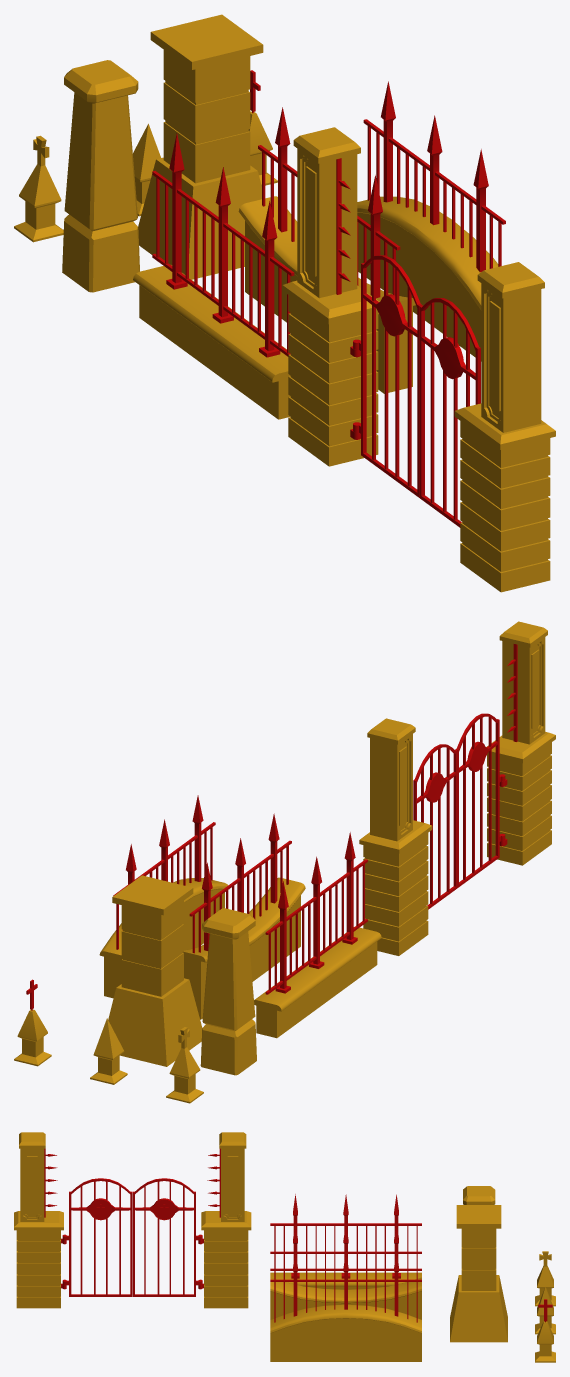
3 renders of one model, top to bottom at view 1: azimuth 30°, elevation 25°; view 2: azimuth 150°, elevation 25°; view 3: azimuth 270°, elevation 25°, orthographic. The views are drawn at different scales.
Parts seen in each view (by area): view 1: Main_Gates2 (×2), Fence_Column2.002, Fence1.002 (×2), Fence3.002 (×2), Fence_Column1.002, Fence2.002 (×2), Peak1.002, Peak2.002, Peak3.002; view 2: Main_Gates2 (×2), Fence_Column2.002, Fence1.002 (×2), Fence_Column1.002, Fence2.002 (×2), Fence3.002 (×2), Peak1.002, Peak2.002, Peak3.002; view 3: Main_Gates2 (×2), Fence3.002 (×2), Fence_Column2.002, Fence2.002 (×2), Fence1.002 (×2), Peak3.002, Peak1.002, Fence_Column1.002, Peak2.002.
Part boxes in pixels (x1,y1,x2,y2): Main_Gates2 (×2): (282,127,555,592); Fence_Column2.002: (138,14,263,279); Fence1.002 (×2): (133,133,294,419); Fence3.002 (×2): (357,81,505,361); Fence_Column1.002: (62,60,139,292); Fence2.002 (×2): (238,107,415,393); Peak1.002: (14,135,63,242); Peak2.002: (133,123,160,216); Peak3.002: (248,111,277,186); Main_Gates2 (×2): (359,621,555,955); Fence_Column2.002: (108,875,202,1066); Fence1.002 (×2): (254,832,381,1038); Fence_Column1.002: (200,908,256,1075); Fence2.002 (×2): (182,813,305,1019); Fence3.002 (×2): (99,795,227,998); Peak1.002: (166,1027,203,1103); Peak2.002: (90,1018,127,1084); Peak3.002: (14,1009,51,1066); Main_Gates2 (×2): (14,1132,251,1308); Fence3.002 (×2): (270,1250,421,1361); Fence_Column2.002: (450,1205,507,1342); Fence2.002 (×2): (270,1222,421,1319); Fence1.002 (×2): (270,1194,421,1289); Peak3.002: (535,1321,555,1362); Peak1.002: (535,1251,555,1306); Fence_Column1.002: (463,1186,495,1204); Peak2.002: (535,1286,555,1334).
Bounding box in the file's own units: 333 × 370 × 1103.
